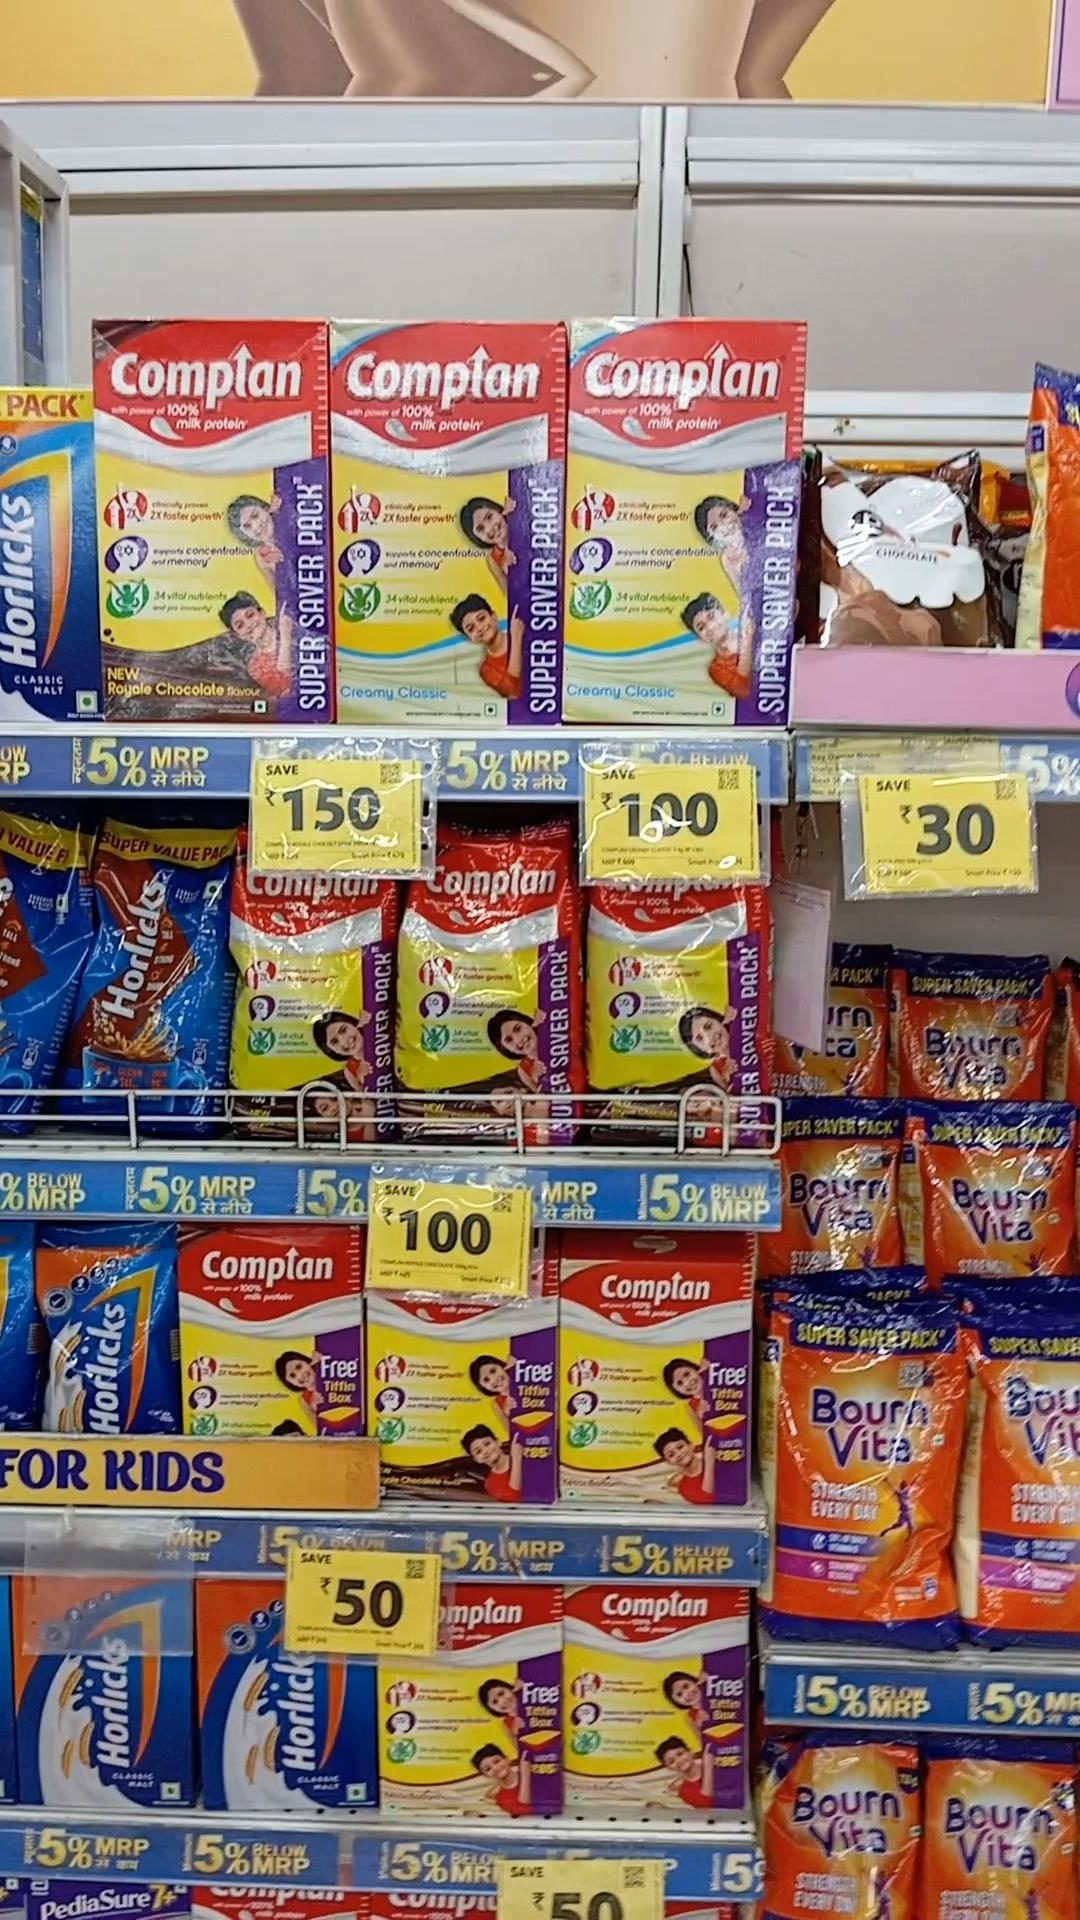COMPLAN_CHOCOLATE_1_KG_PACK: (562, 316, 798, 723), (99, 319, 330, 719), (332, 320, 559, 725)
COMPLAN_CHOCOLATE_500_GMS_PACK: (563, 1263, 752, 1506), (563, 1586, 746, 1813), (368, 1290, 556, 1503), (385, 1585, 556, 1809), (183, 1228, 363, 1439)
COMPLAN_RC_POUCH_700_GMS_12: (401, 843, 578, 1137), (585, 886, 767, 1150), (229, 870, 394, 1137)
HORLICK_CLASSIC_MALT_750_G_POUCH: (34, 1229, 174, 1433)
